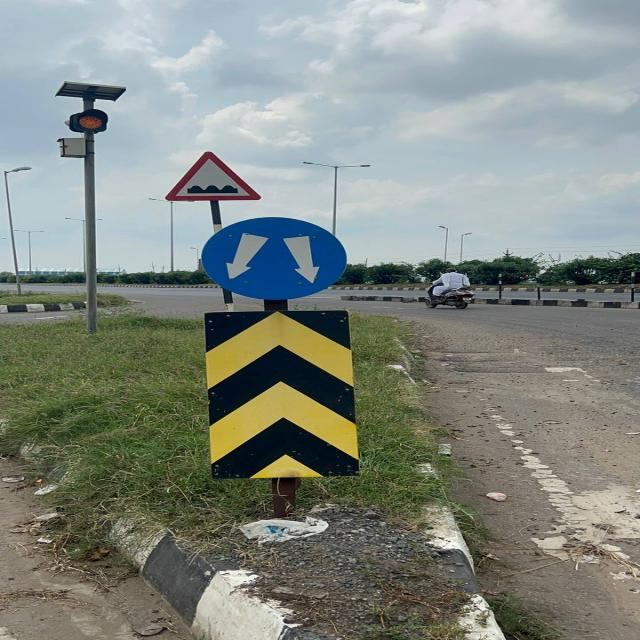Rumble_strip: (170, 144, 265, 206)
Twoway_hazardmarker: (199, 308, 374, 486)
vehicles_may_pass_either: (179, 217, 364, 303)
